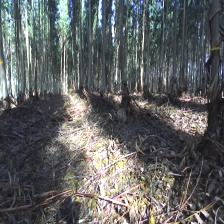trunk: (202, 0, 223, 146), (119, 3, 130, 110), (101, 3, 108, 96)
